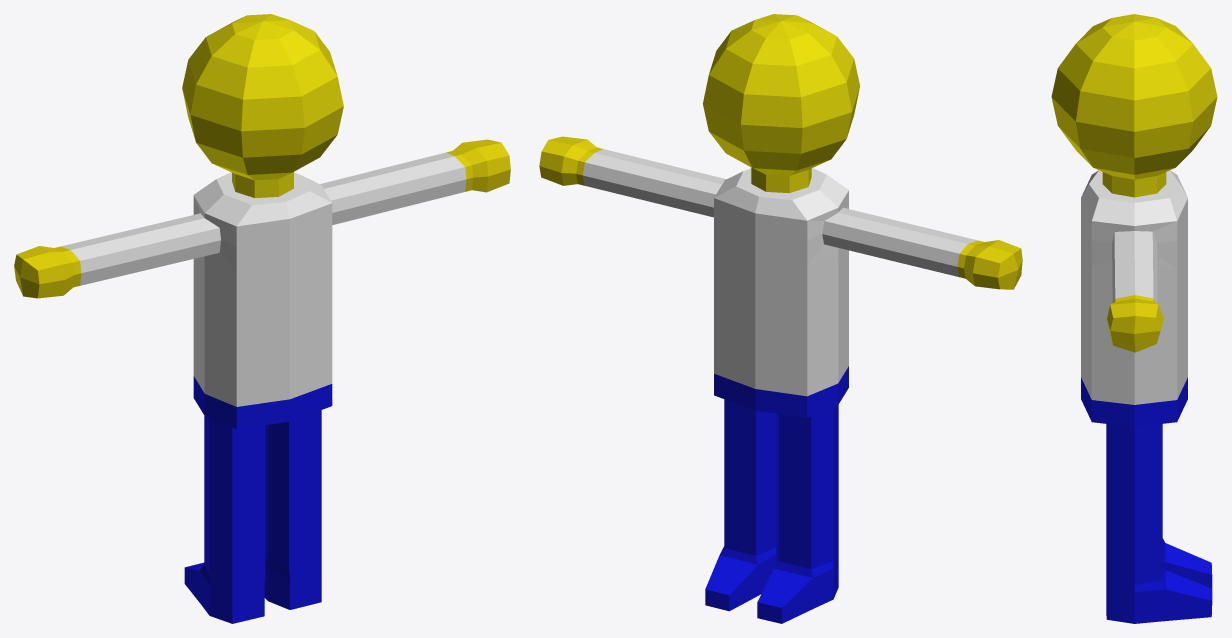
File: child.fbx
The picture shows the model from 3 angles, left to right: view 1: azimuth 30°, elevation 25°; view 2: azimuth 150°, elevation 25°; view 3: azimuth 270°, elevation 25°; orthographic projection. The views are drawn at different scales.
Parts seen in each view (by area): view 1: Child; view 2: Child; view 3: Child.
Boxes of the visible parts, x1,y1,x2,y2 form: Child: (14, 14, 510, 623); Child: (539, 14, 1022, 623); Child: (1051, 14, 1217, 623).
Size of the model in its own units: 1.14 by 1.3 by 0.3395.
